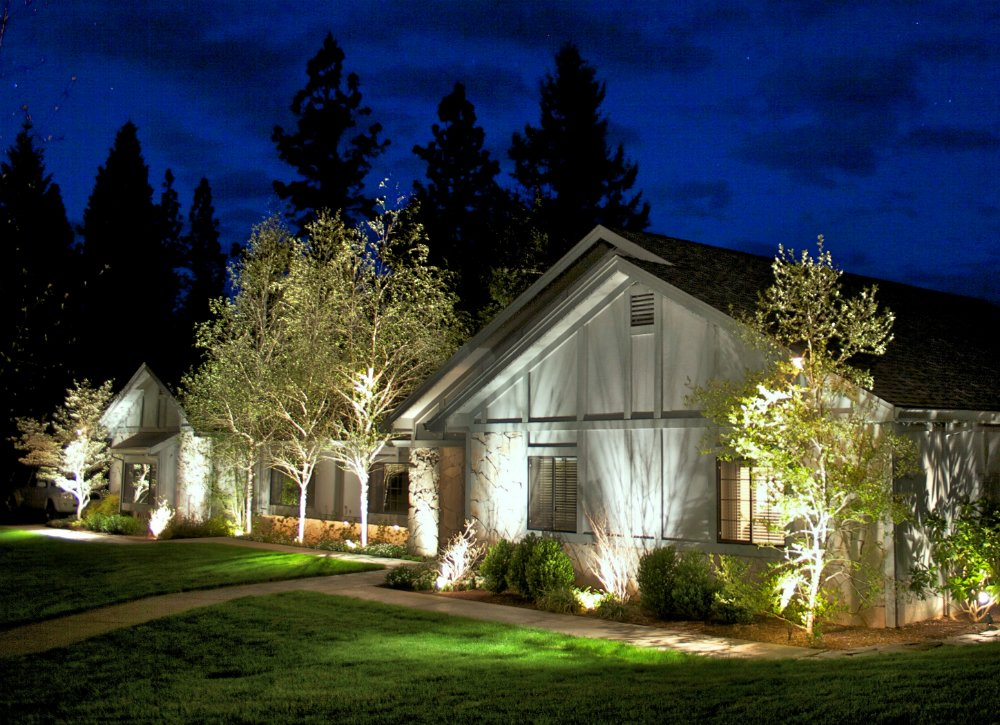tree: (734, 247, 902, 639), (203, 229, 356, 553), (296, 219, 438, 551), (19, 384, 139, 526)
